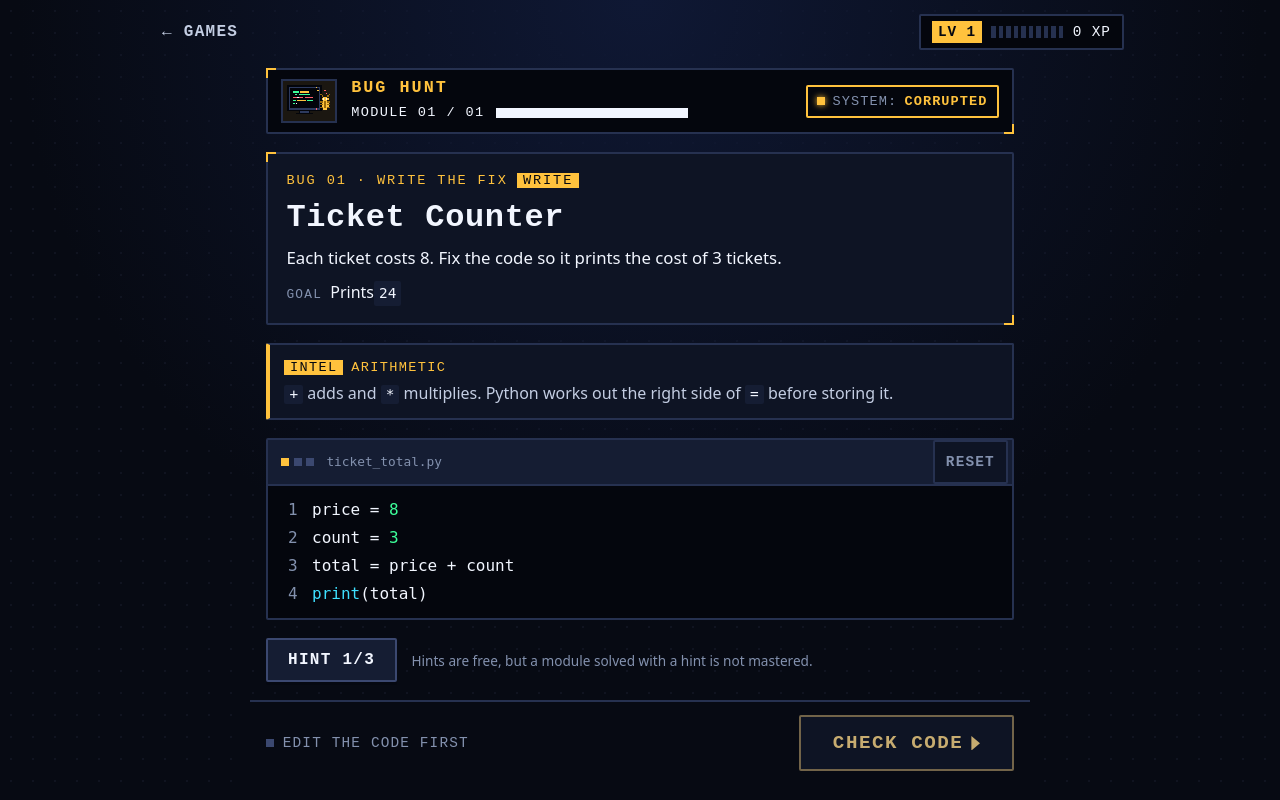
Test: checking code › reports malformed and unsupported code safely
Replace the text in the text box with "print(" at (662, 552), box x1=312 y1=496 x2=1012 y2=608
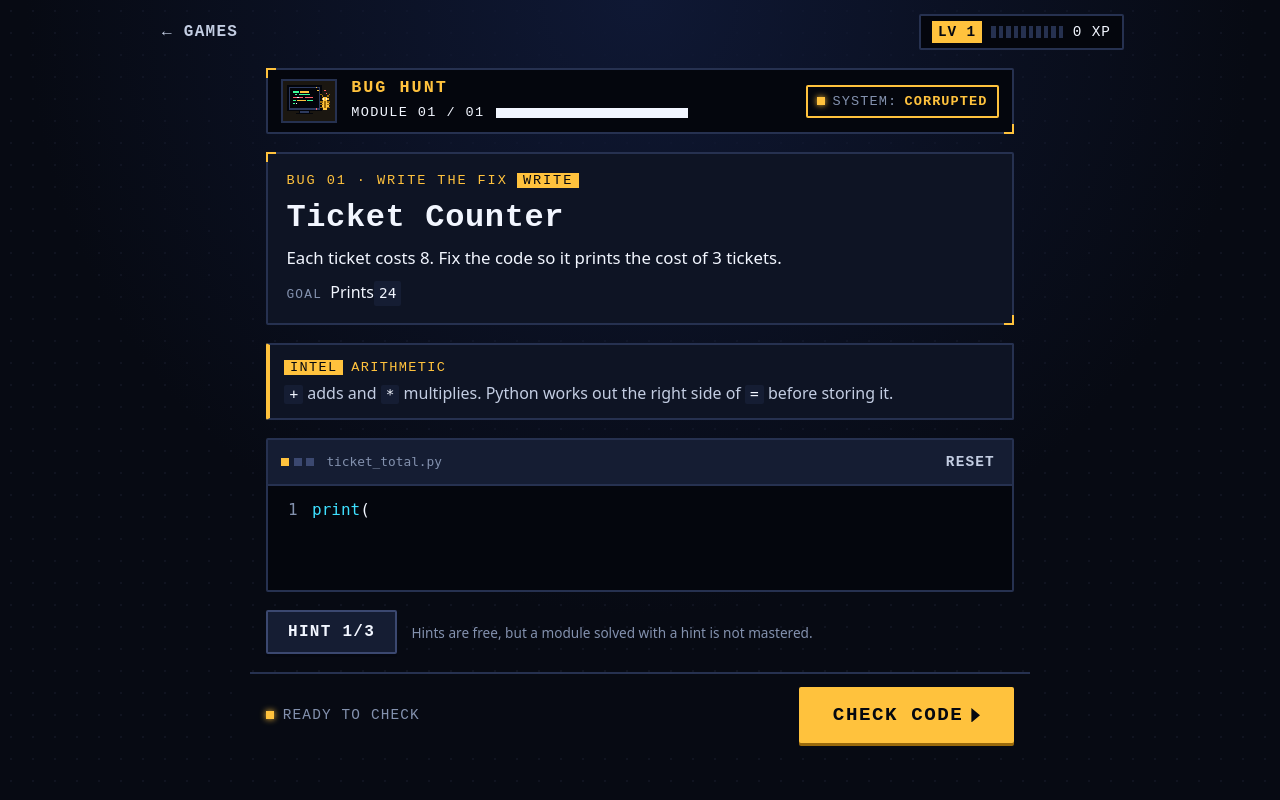
Click the button "Check code" at (906, 715), box x1=799 y1=687 x2=1014 y2=743
(page scrolled)
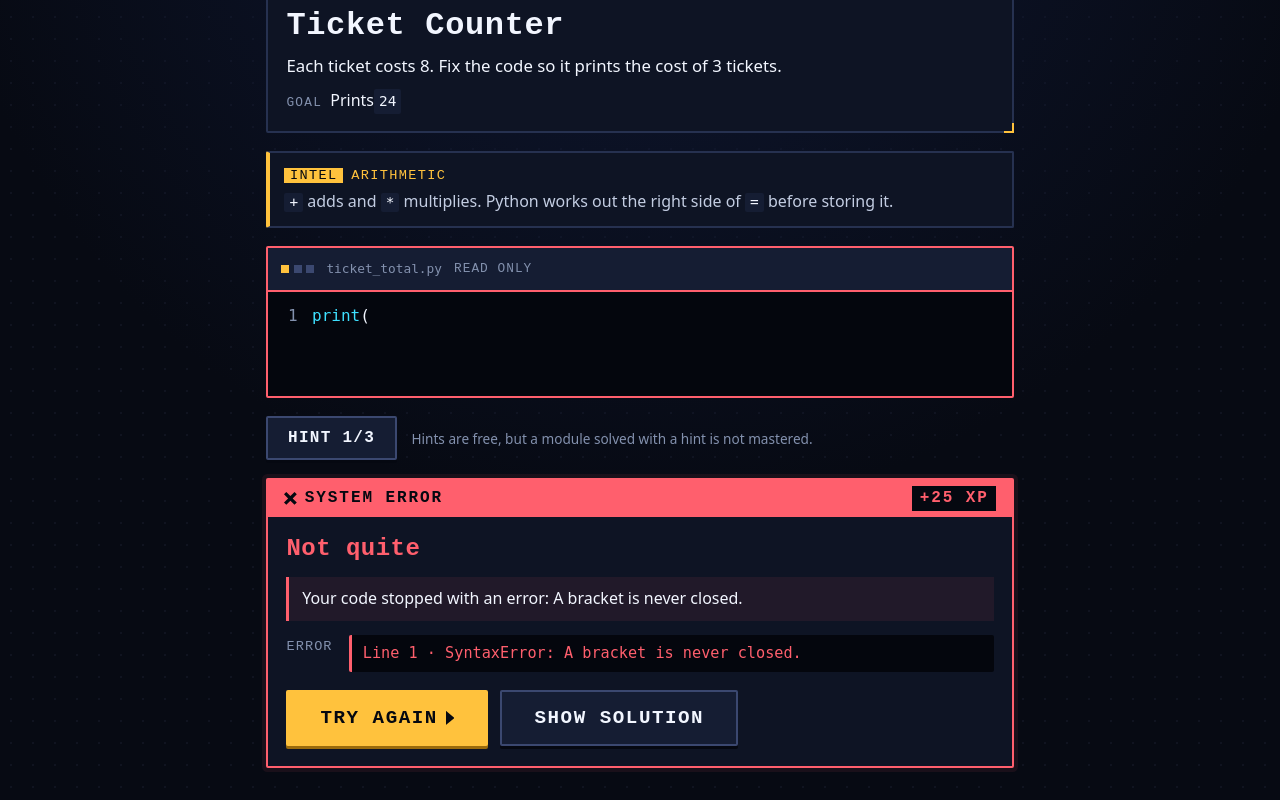
Result: the text "System error" is shown at x1=284 y1=486 x2=443 y2=511
Result: the text "Line 1 · SyntaxError: A bracket is never closed." is shown at x1=349 y1=635 x2=994 y2=672
Click the button "Try again" at (387, 718), box x1=286 y1=690 x2=488 y2=746
(page scrolled)
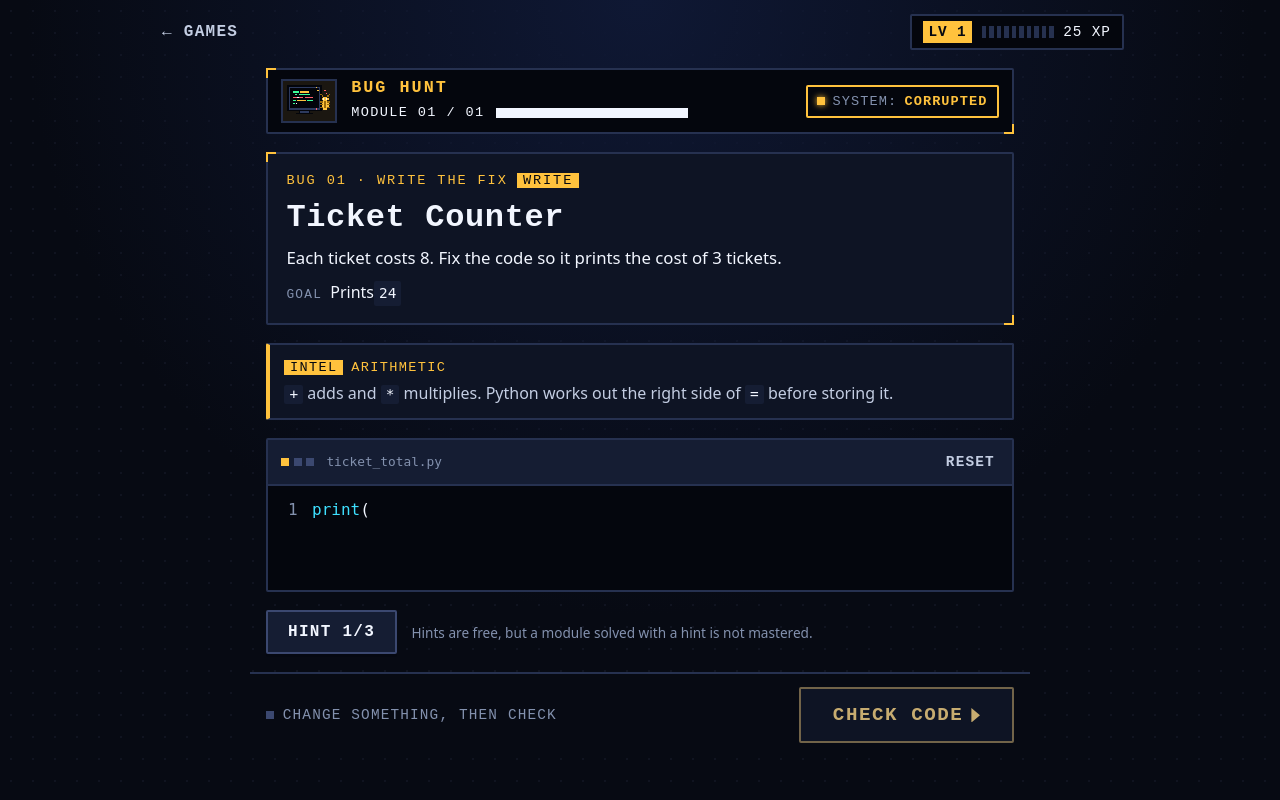
Replace the text in the text box with "import os" at (662, 538), box x1=312 y1=496 x2=1012 y2=580
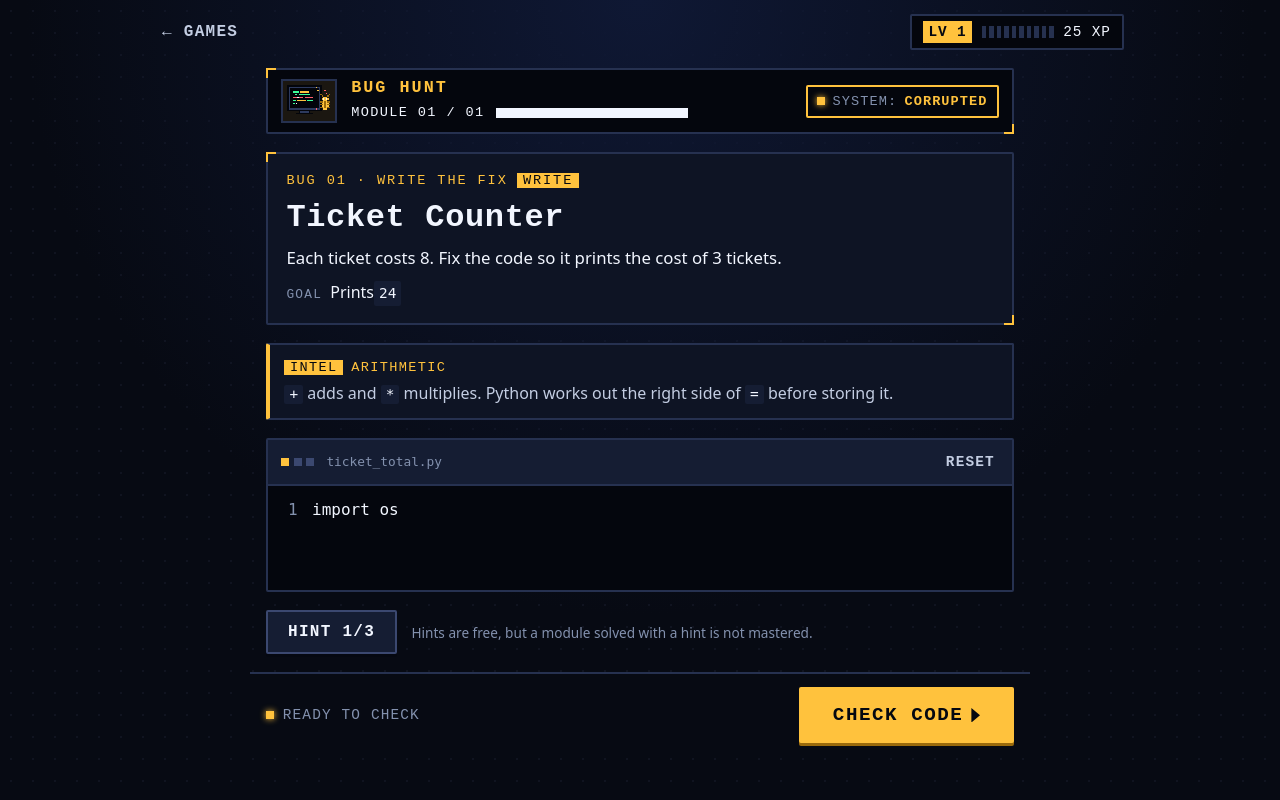
Click the button "Check code" at (906, 715), box x1=799 y1=687 x2=1014 y2=743
(page scrolled)
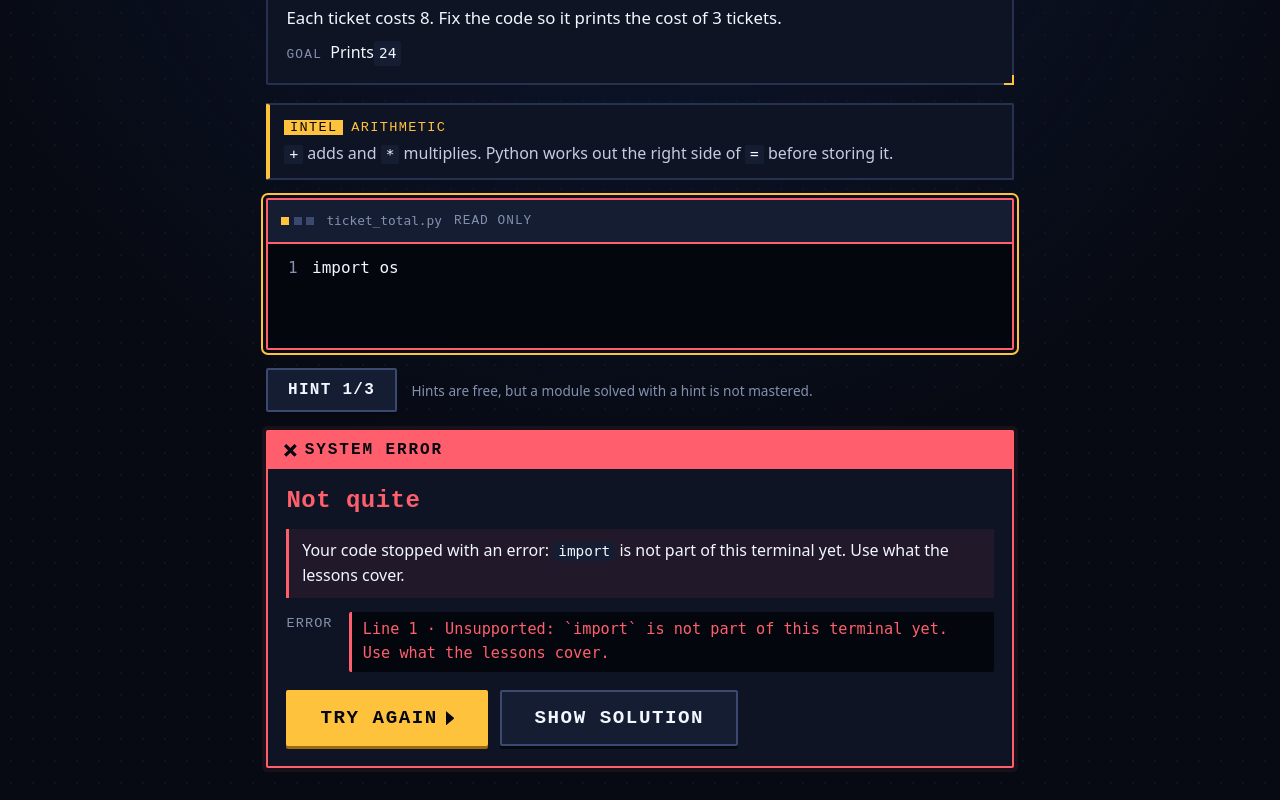
Result: the text "not part of this terminal" is shown at x1=363 y1=620 x2=957 y2=662
